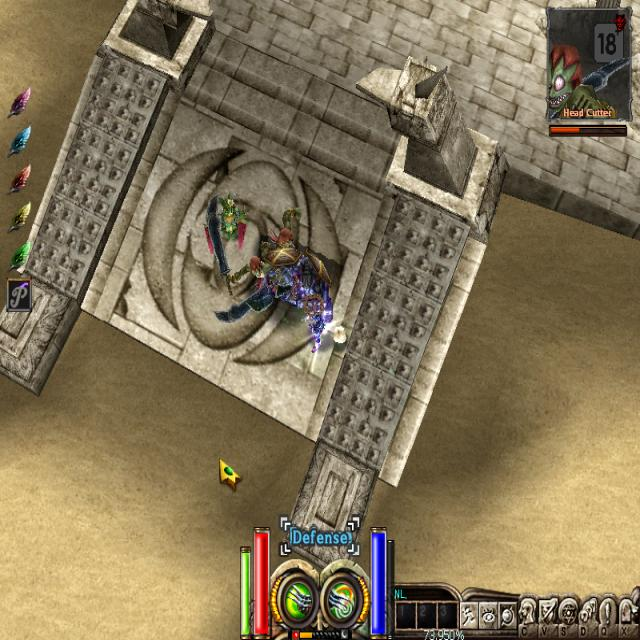monster: (332, 319, 352, 356)
